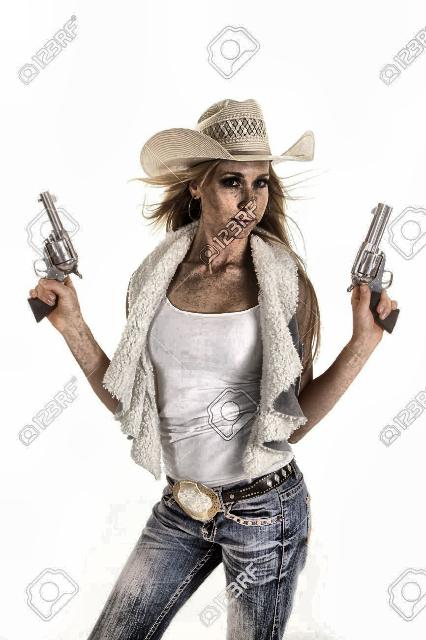pistol: (20, 188, 82, 324), (348, 202, 404, 336)
